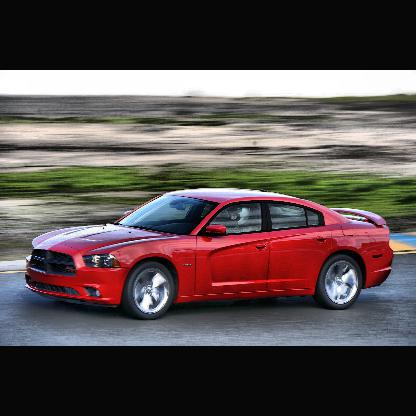Dodge Charger Sedan 2012: (24, 187, 399, 320)
